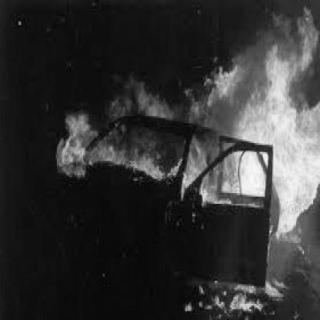Fire: (60, 0, 320, 309)
